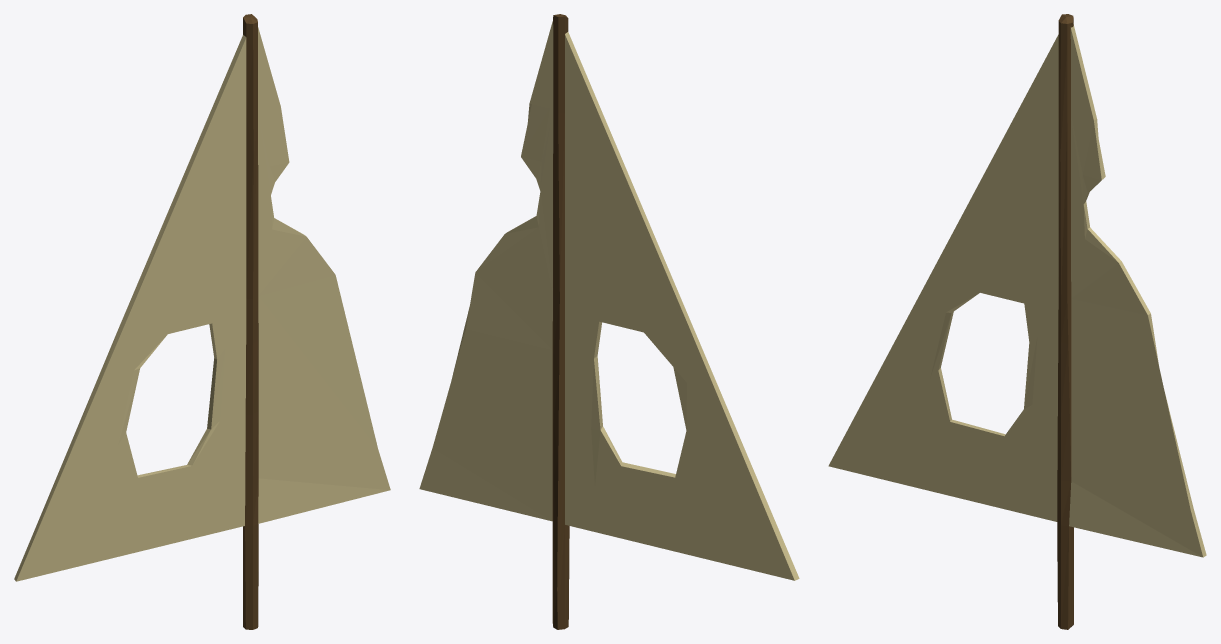
File: Segel.fbx
The picture shows the model from 3 angles, left to right: view 1: azimuth 30°, elevation 25°; view 2: azimuth 150°, elevation 25°; view 3: azimuth 330°, elevation 25°; orthographic projection.
Visible parts, largest first — view 1: Stiel; view 2: Stiel; view 3: Stiel.
Part boxes in pixels (bbox=[...]): Stiel: bbox=[14, 14, 390, 629]; Stiel: bbox=[419, 14, 799, 629]; Stiel: bbox=[828, 14, 1206, 629].
Bounding box in the file's own units: 1054 × 1637 × 44.44.
